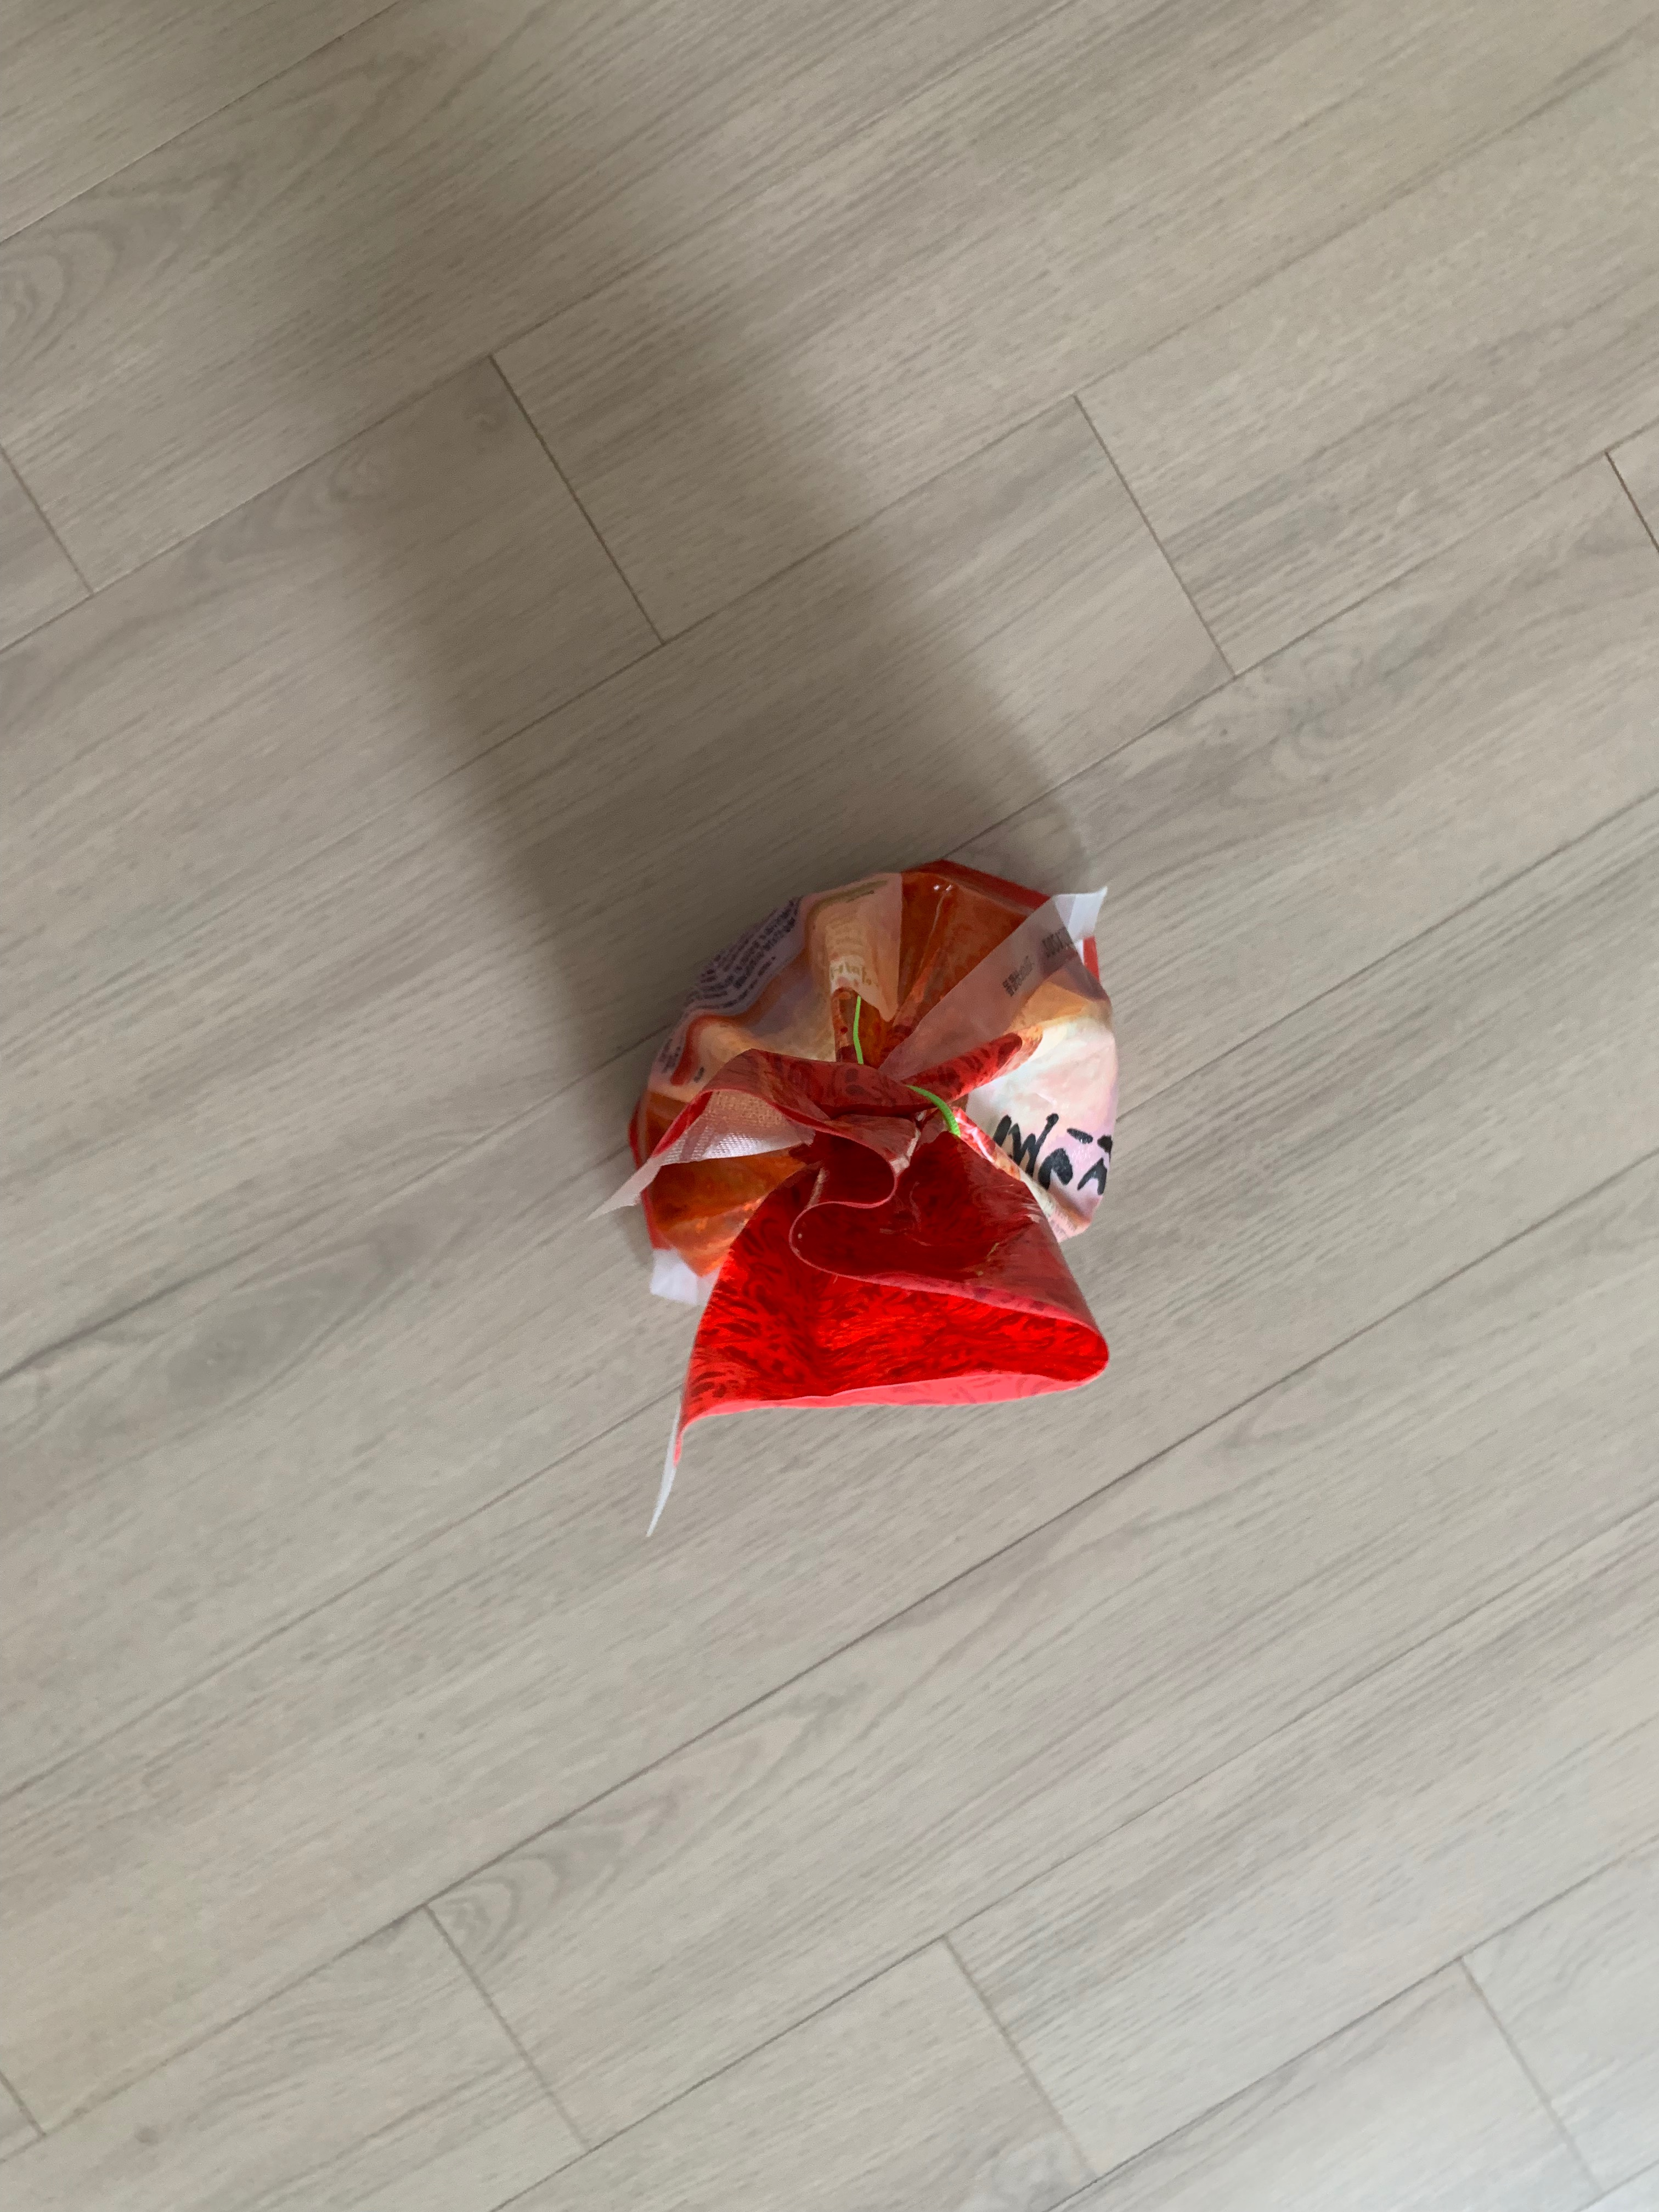kimchi: (633, 862, 1121, 1411)
